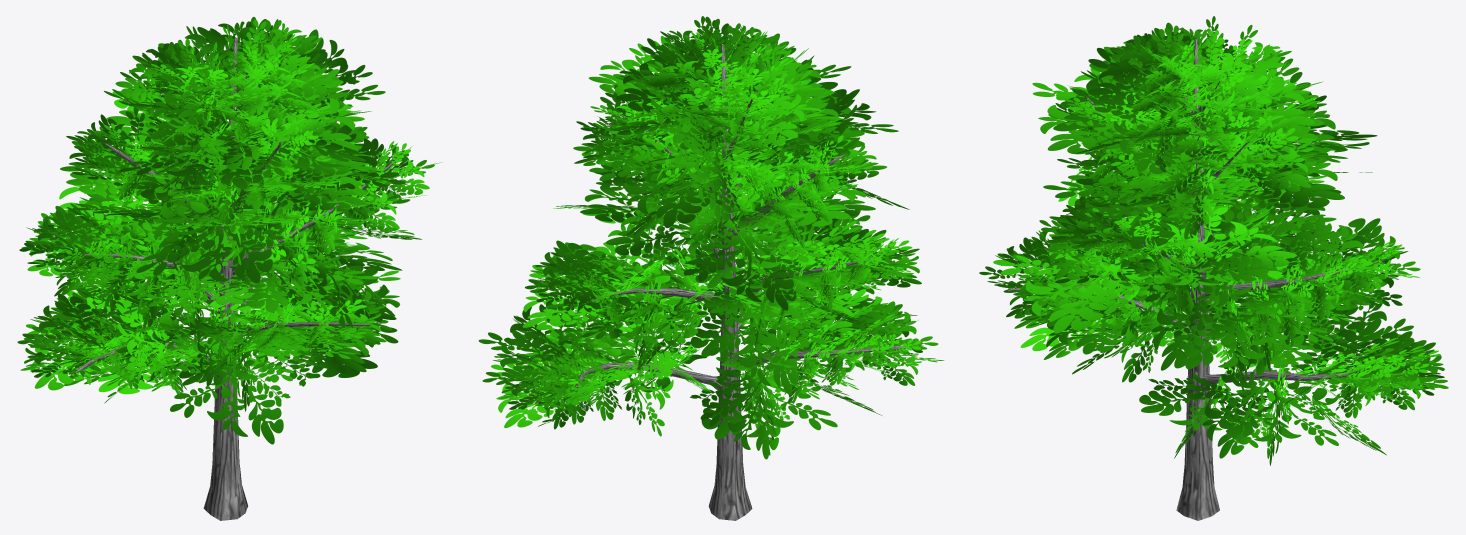
The model's file is tree.gltf.
The picture shows the model from 3 angles, left to right: view 1: azimuth 30°, elevation 25°; view 2: azimuth 150°, elevation 25°; view 3: azimuth 270°, elevation 25°; orthographic projection. The views are drawn at different scales.
Visible parts, largest first — view 1: Tree01_jbm_m; view 2: Tree01_jbm_m; view 3: Tree01_jbm_m.
Boxes of the visible parts, box(x1,y1,x2,y2) form: Tree01_jbm_m: box(17, 17, 442, 520); Tree01_jbm_m: box(478, 16, 944, 520); Tree01_jbm_m: box(979, 16, 1448, 520).
Bounding box in the file's own units: 11.2 × 13.13 × 11.6.
Materials: 2 (2 with a texture image).
